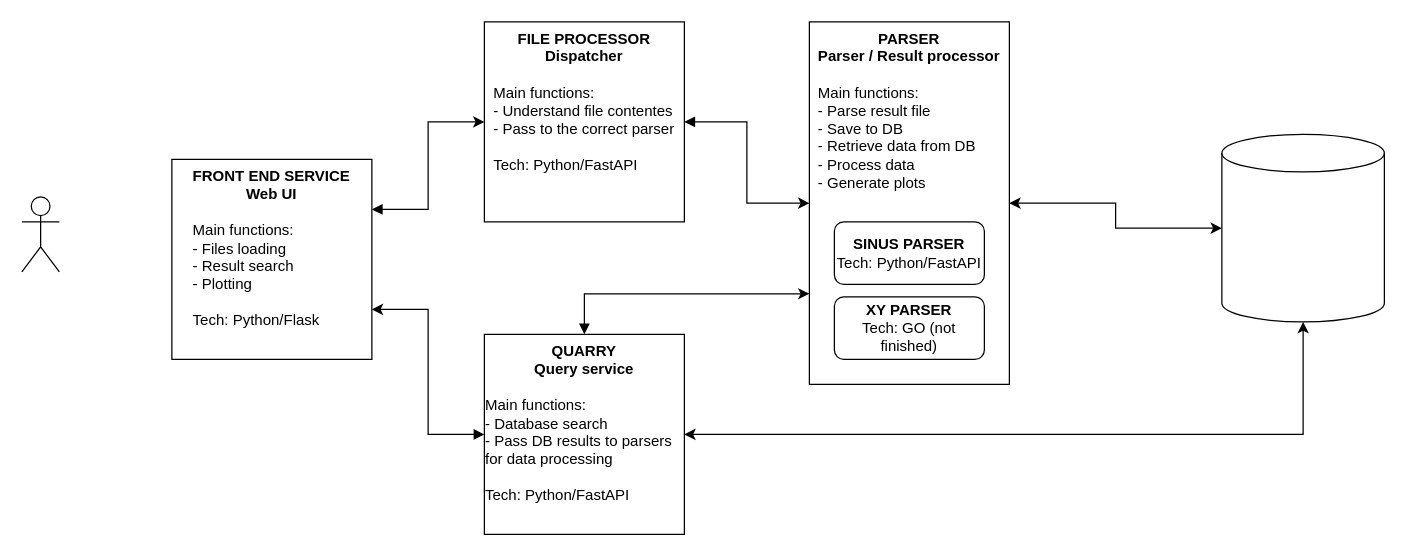
The diagram is 1406 pixels wide and 556 high, and some of its shapes have lost their labels. The shapes that lost their labels are listed below. From the top down, each one's centre as x and y in pixels, then its label:
(x=40, y=234): User
(x=1302, y=227): DATABASE NOSQL Document-oriented Tech: mongodb
